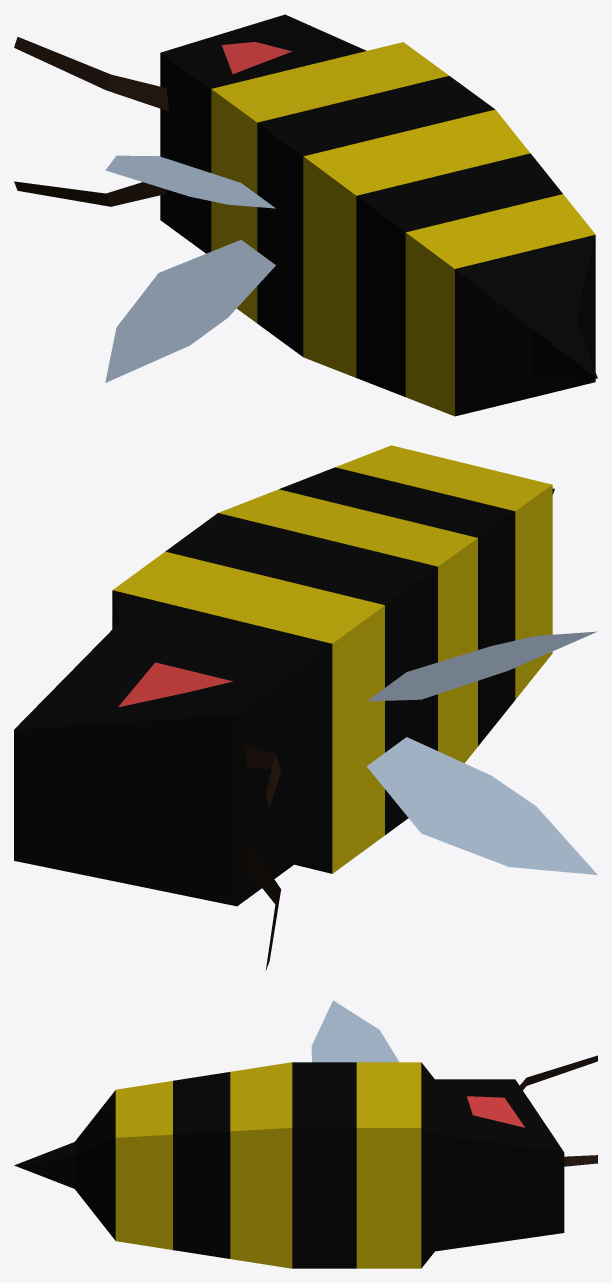
File: CreativeCoding_Beeatrice.fbx
The picture shows the model from 3 angles, top to bottom: view 1: azimuth 30°, elevation 25°; view 2: azimuth 150°, elevation 25°; view 3: azimuth 270°, elevation 25°; orthographic projection. The views are drawn at different scales.
Visible parts, largest first — view 1: Beeatrice, WingRight.002, Beeanca.002, WingRight.001; view 2: Beeatrice, WingRight.002, WingRight.001, Beeanca.002; view 3: Beeatrice, WingRight.001, Beeanca.002.
Part boxes in pixels (box(x1,y1,x2,y2)): Beeatrice: box(160, 14, 597, 416); WingRight.002: box(105, 240, 275, 382); Beeanca.002: box(14, 37, 168, 206); WingRight.001: box(105, 155, 275, 208); Beeatrice: box(14, 445, 554, 906); WingRight.002: box(367, 737, 597, 874); WingRight.001: box(367, 631, 596, 701); Beeanca.002: box(244, 745, 280, 970); Beeatrice: box(14, 1062, 564, 1268); WingRight.001: box(311, 1000, 398, 1062); Beeanca.002: box(519, 1055, 597, 1166).
Bounding box in the file's own units: 452 × 254 × 902.
